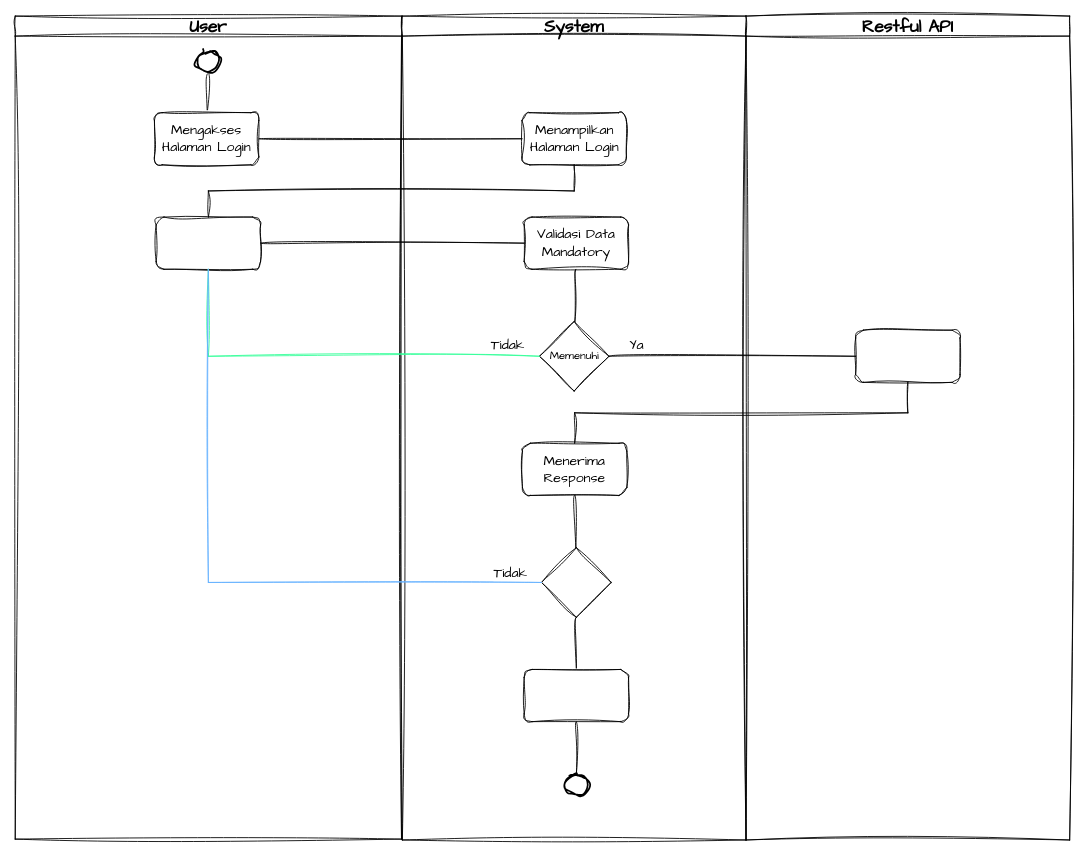
Image size: 1085x855. Some labels were removed from this diagram. Here are the shapes that lost their labels. From the top down, the centre of each, then its label:
At (x=208, y=242): "Mengisikan Formulir Login".
At (x=907, y=355): "Mencari Data".
At (x=576, y=582): "Ditemukan".
At (x=576, y=695): "Menampilkan Halaman Beranda".
